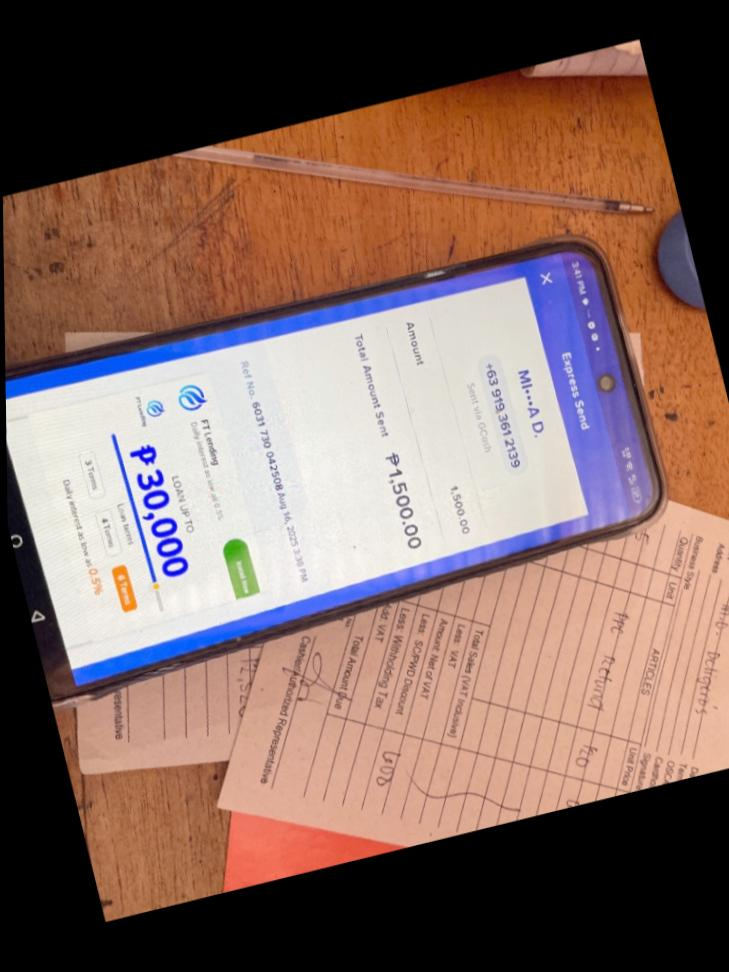Receipt: (6, 254, 629, 685)
